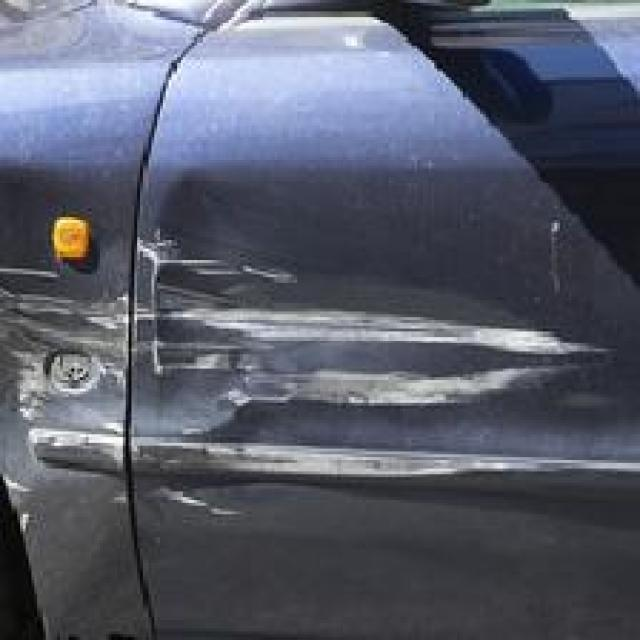damaged: (2, 231, 614, 523)
